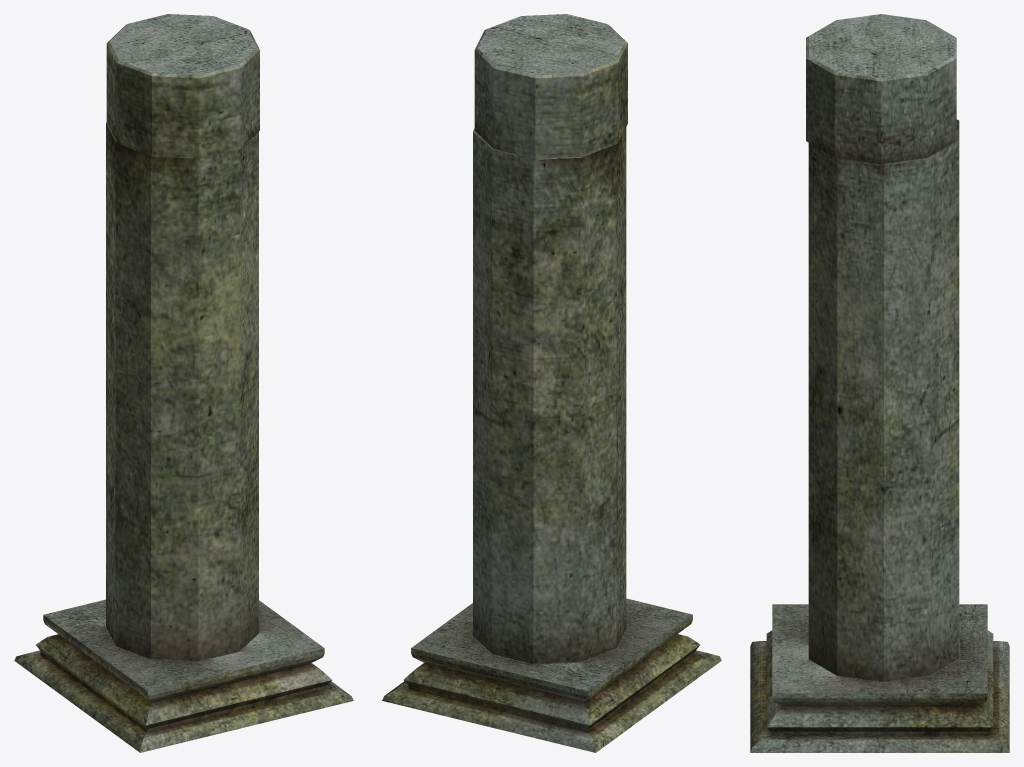
The model's file is Column1.FBX.
The picture shows the model from 3 angles, left to right: view 1: azimuth 30°, elevation 25°; view 2: azimuth 150°, elevation 25°; view 3: azimuth 270°, elevation 25°; orthographic projection. The views are drawn at different scales.
Visible parts, largest first — view 1: ColumnMesh001; view 2: ColumnMesh001; view 3: ColumnMesh001.
Part boxes in pixels (left/top/right/bottom): ColumnMesh001: left=14, top=14, right=353, bottom=752; ColumnMesh001: left=382, top=14, right=721, bottom=752; ColumnMesh001: left=750, top=14, right=1009, bottom=752.
Bounding box in the file's own units: 27.53 × 78.32 × 28.14.
